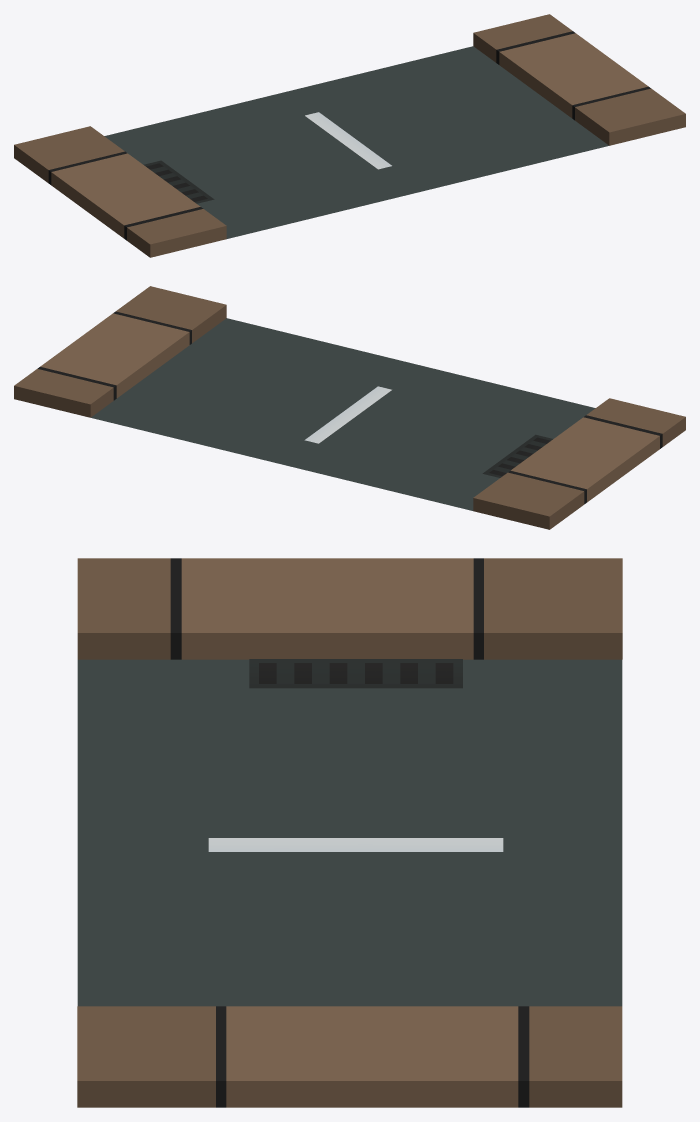
The model's file is Road_1_107.fbx.
3 renders of one model, top to bottom at view 1: azimuth 30°, elevation 25°; view 2: azimuth 150°, elevation 25°; view 3: azimuth 270°, elevation 25°, orthographic. The views are drawn at different scales.
Parts seen in each view (by area): view 1: Road_1_107; view 2: Road_1_107; view 3: Road_1_107.
Part boxes in pixels (bbox=[...]): Road_1_107: bbox=[14, 14, 685, 257]; Road_1_107: bbox=[14, 286, 685, 529]; Road_1_107: bbox=[77, 558, 622, 1107].
Size of the model in its own units: 1260 by 30 by 555.
